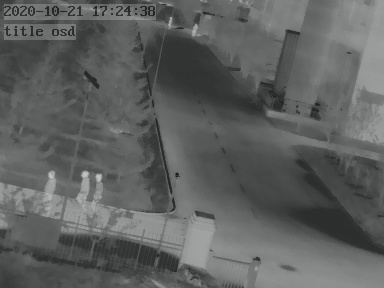person: (43, 169, 59, 207), (76, 170, 89, 205), (92, 173, 103, 205), (191, 23, 198, 38), (167, 15, 173, 30)
